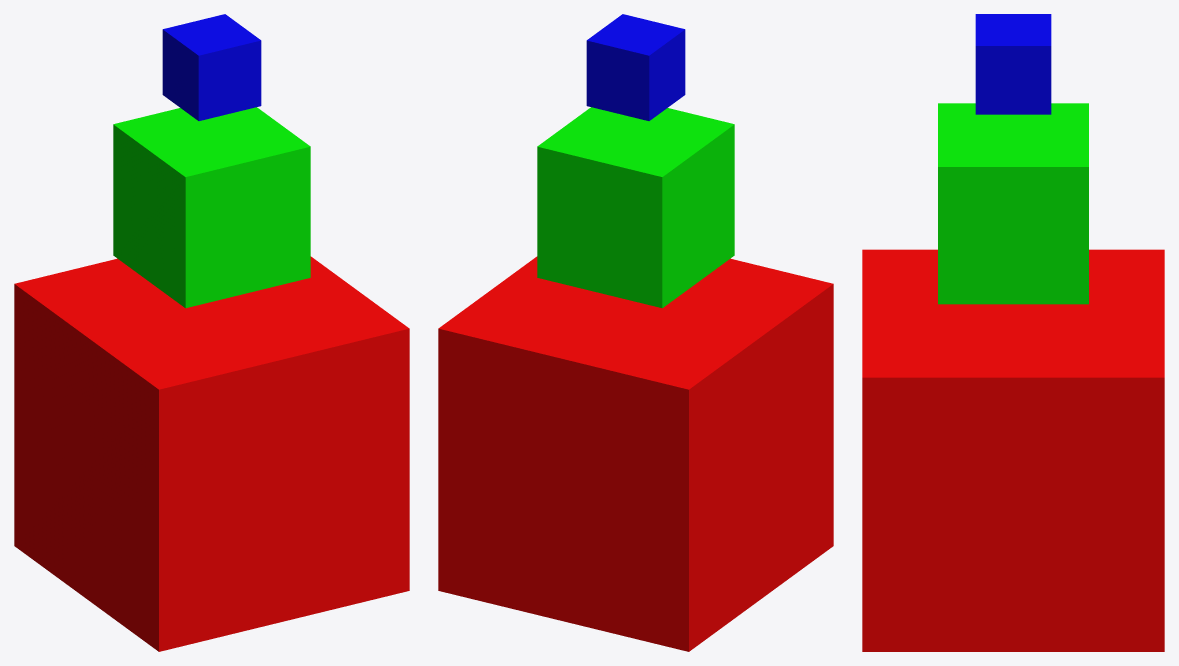
Rendered from cube_hierarchy_2.dae.
The picture shows the model from 3 angles, left to right: view 1: azimuth 30°, elevation 25°; view 2: azimuth 150°, elevation 25°; view 3: azimuth 270°, elevation 25°; orthographic projection. The views are drawn at different scales.
Parts seen in each view (by area): view 1: cubeMain, cubeChild, cubeGrandChild; view 2: cubeMain, cubeChild, cubeGrandChild; view 3: cubeMain, cubeChild, cubeGrandChild.
Part boxes in pixels (x1=…): cubeMain: x1=14, y1=256, x2=409, y2=651; cubeChild: x1=113, y1=107, x2=310, y2=308; cubeGrandChild: x1=162, y1=14, x2=261, y2=120; cubeMain: x1=438, y1=256, x2=833, y2=651; cubeChild: x1=537, y1=107, x2=734, y2=308; cubeGrandChild: x1=586, y1=14, x2=685, y2=120; cubeMain: x1=862, y1=249, x2=1164, y2=651; cubeChild: x1=938, y1=103, x2=1088, y2=304; cubeGrandChild: x1=975, y1=14, x2=1051, y2=114.
Bounding box in the file's own units: 2 × 2 × 4.07.
